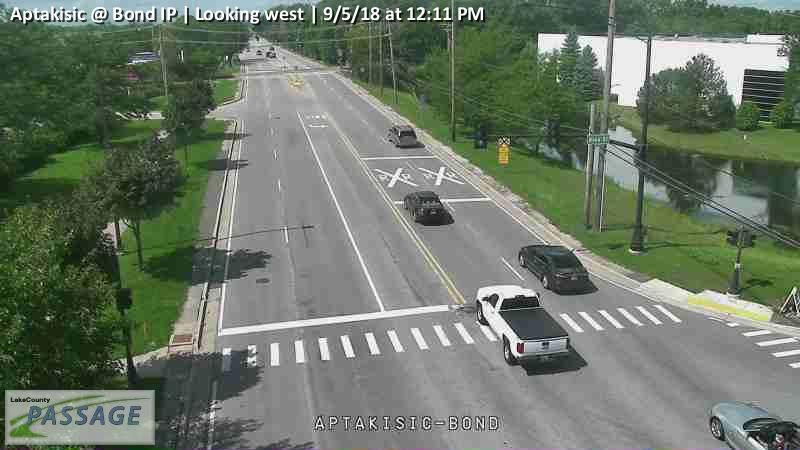SUV: (388, 125, 417, 147)
Sedan: (707, 397, 800, 450), (517, 243, 590, 292), (403, 190, 446, 224)
Truck: (474, 284, 571, 365)
